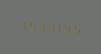five: (26, 18, 34, 33), (71, 21, 79, 35)
nine: (62, 20, 70, 35)
one: (53, 20, 61, 34)
seven: (17, 18, 25, 32)
three: (44, 19, 52, 34), (35, 19, 43, 33)
